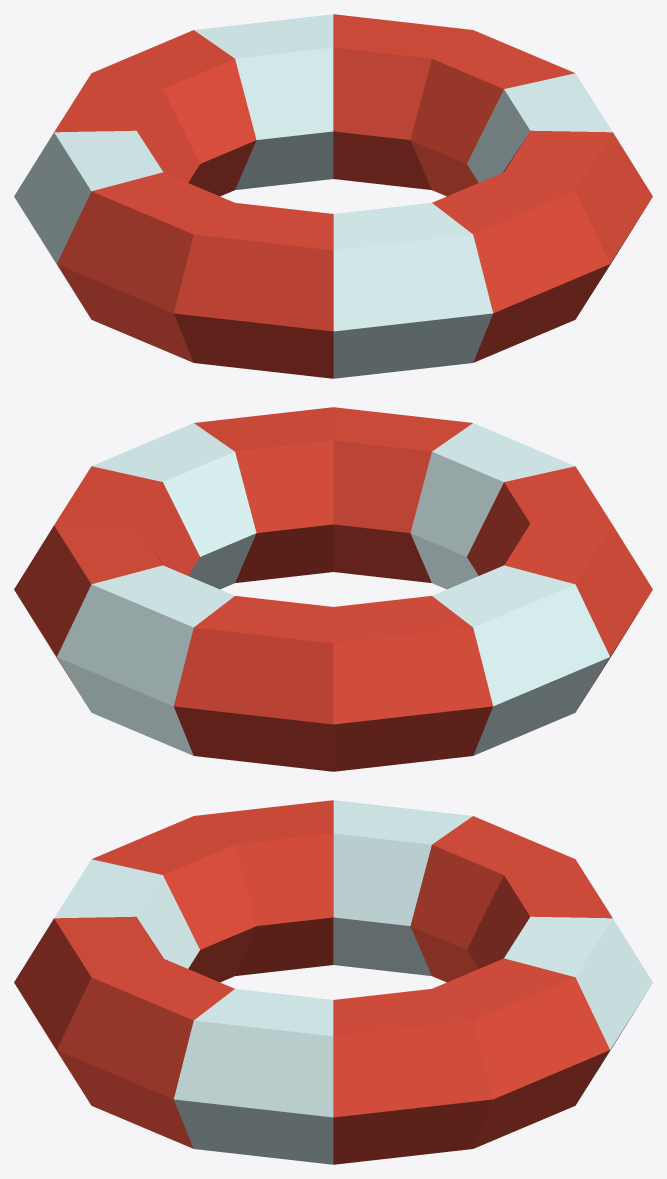
The model's file is beach-lifebuoy.glb.
3 views of the same model, one above another, from view 1: azimuth 30°, elevation 25°; view 2: azimuth 150°, elevation 25°; view 3: azimuth 270°, elevation 25° (orthographic).
Parts seen in each view (by area): view 1: lifebuoy; view 2: lifebuoy; view 3: lifebuoy.
Part boxes in pixels (x1,y1,x2,y2): lifebuoy: (14,14,652,378); lifebuoy: (14,407,652,771); lifebuoy: (14,800,652,1164).
Size of the model in its own units: 0.7911 by 0.1796 by 0.7911.
